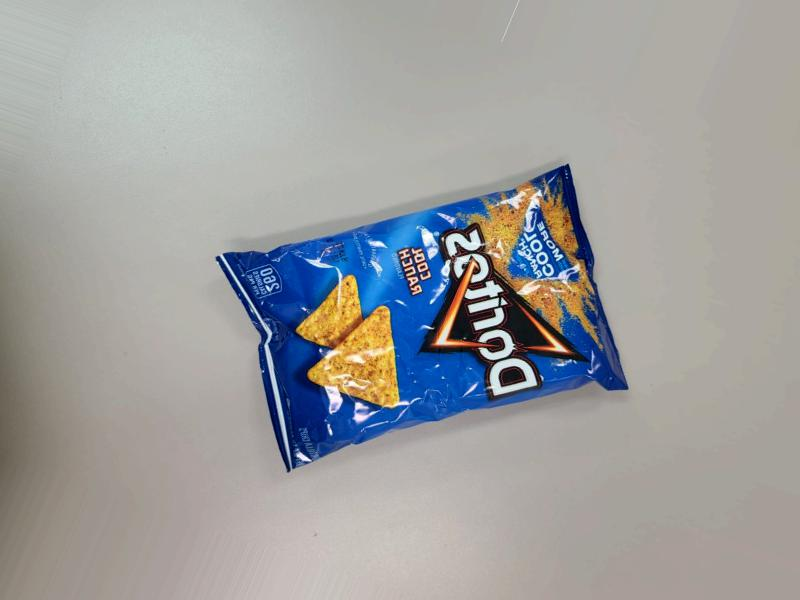doritos: (236, 155, 615, 477)
